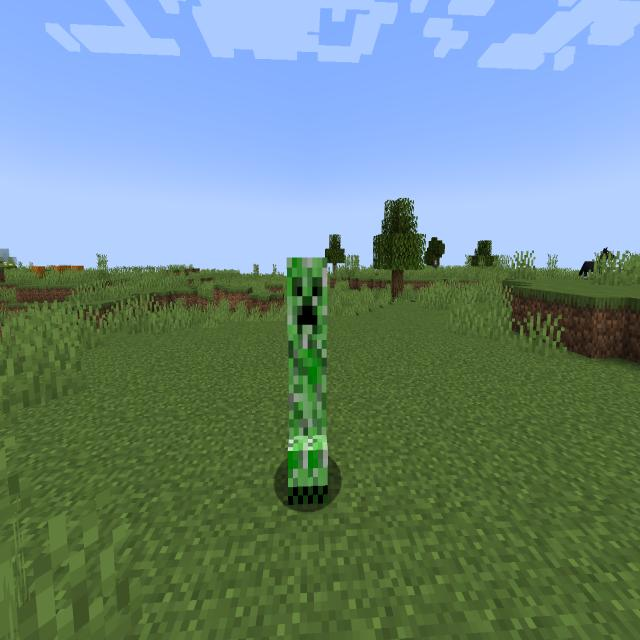Creeper: (275, 248, 333, 516)
